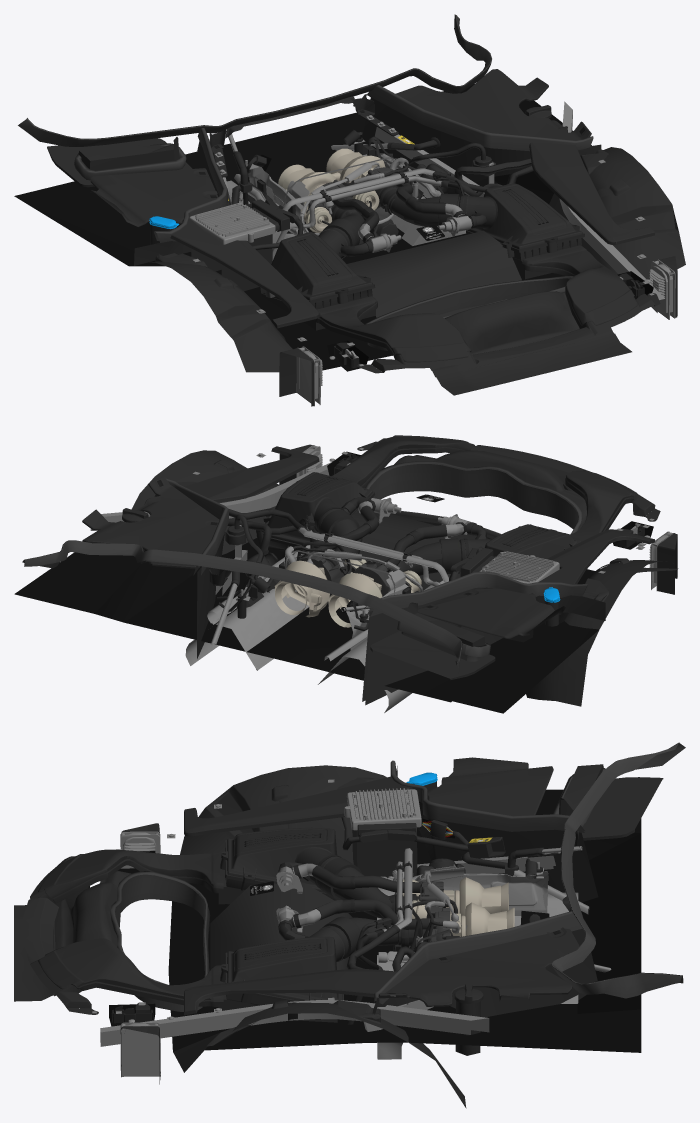
Rendered from amg-v8.glb.
3 views of the same model, one above another, from view 1: azimuth 30°, elevation 25°; view 2: azimuth 150°, elevation 25°; view 3: azimuth 270°, elevation 25° (orthographic). The views are drawn at different scales.
Parts seen in each view (by area): view 1: Object_4; view 2: Object_4; view 3: Object_4.
Boxes of the visible parts, x1,y1,x2,y2 form: Object_4: [14, 14, 685, 406]; Object_4: [14, 435, 678, 713]; Object_4: [14, 742, 685, 1108].
Size of the model in its own units: 1.62 by 0.4793 by 1.74.
Materials: 1 (1 with a texture image).
